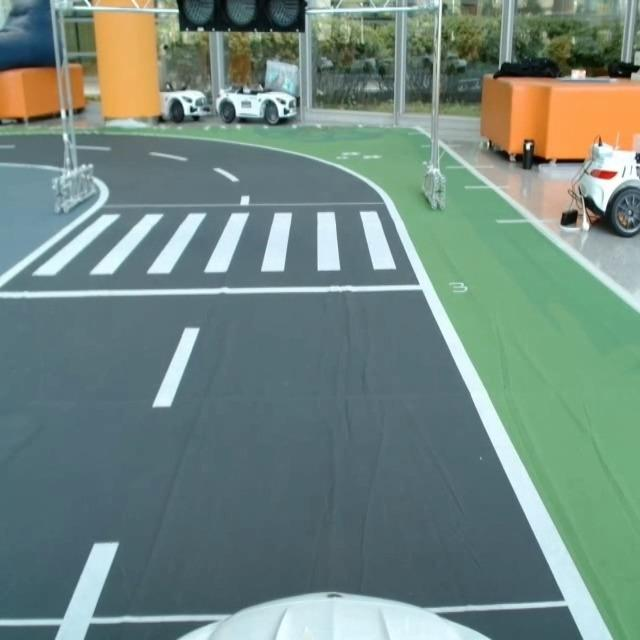traffic-light: (171, 0, 310, 36)
